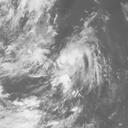cyclone: (50, 37, 97, 92)
